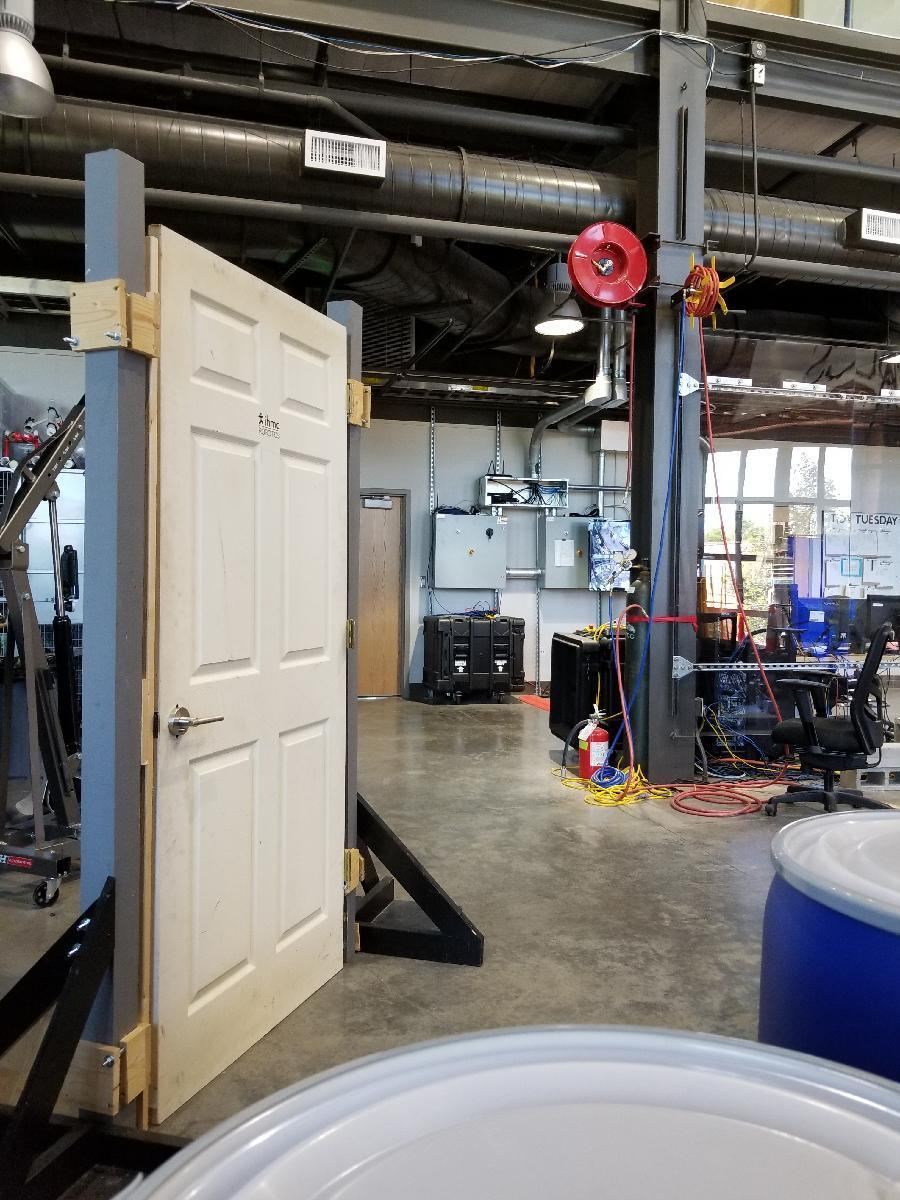door: (160, 246, 344, 1114)
handle: (166, 702, 230, 740)
